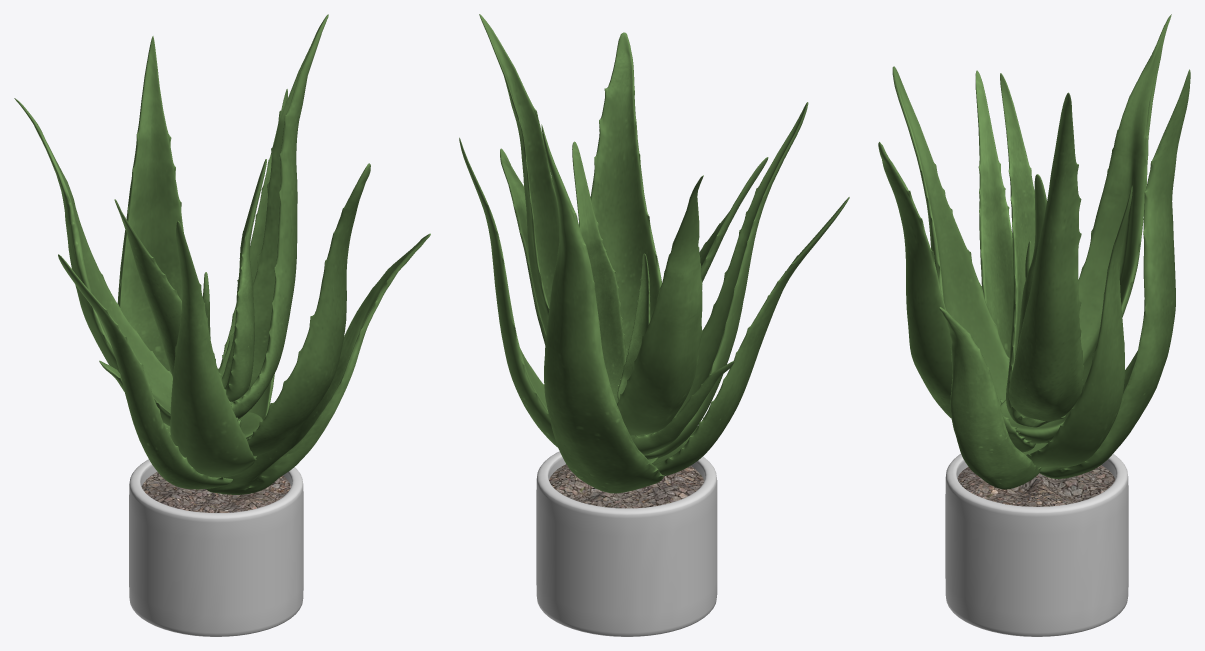
File: 3d-lidah.glb
3 views of the same model, side by side, from view 1: azimuth 30°, elevation 25°; view 2: azimuth 150°, elevation 25°; view 3: azimuth 270°, elevation 25° (orthographic). The views are drawn at different scales.
Parts seen in each view (by area): view 1: Cone003_7, aloe10_10, aloe2_5, aloe6_6, aloe7_9, aloe9_12, aloe8_13, aloe5_3, aloe11_11, aloe4_2, Cone002_0, aloe12_4; view 2: Cone003_7, aloe2_5, aloe7_9, aloe9_12, aloe10_10, aloe6_6, aloe5_3, aloe11_11, aloe12_4, Cone002_0, aloe3_1, aloe1_8 (+2 smaller); view 3: Cone003_7, aloe10_10, aloe9_12, aloe2_5, aloe6_6, aloe12_4, aloe7_9, aloe8_13, aloe5_3, aloe4_2, Cone002_0, aloe11_11.
Boxes of the visible parts, x1,y1,x2,y2 form: Cone003_7: (129,459,303,636); aloe10_10: (218,14,328,419); aloe2_5: (117,36,183,373); aloe6_6: (170,221,256,477); aloe7_9: (246,163,370,456); aloe9_12: (14,98,262,438); aloe8_13: (206,233,430,494); aloe5_3: (58,254,232,489); aloe11_11: (222,159,266,401); aloe4_2: (114,199,241,427); Cone002_0: (141,472,291,512); aloe12_4: (219,89,287,460); Cone003_7: (536,451,717,636); aloe2_5: (541,124,664,493); aloe7_9: (590,32,661,439); aloe9_12: (617,175,703,435); aloe10_10: (479,14,559,333); aloe6_6: (644,102,808,459); aloe5_3: (652,197,849,476); aloe11_11: (572,141,627,403); aloe12_4: (459,137,658,463); Cone002_0: (549,464,704,508); aloe3_1: (632,361,734,454); aloe1_8: (617,253,650,400); Cone003_7: (945,454,1128,636); aloe10_10: (1008,92,1084,421); aloe9_12: (1000,14,1171,443); aloe2_5: (1039,69,1190,478); aloe6_6: (892,66,1047,467); aloe12_4: (1026,186,1132,467); aloe7_9: (878,142,1035,452); aloe8_13: (939,307,1041,489); aloe5_3: (975,70,1040,467); aloe4_2: (1000,73,1065,427); Cone002_0: (957,465,1115,506); aloe11_11: (1015,174,1046,359).
Size of the model in its own units: 2.58 by 3.8 by 1.88.
5 materials, 4 textured.
